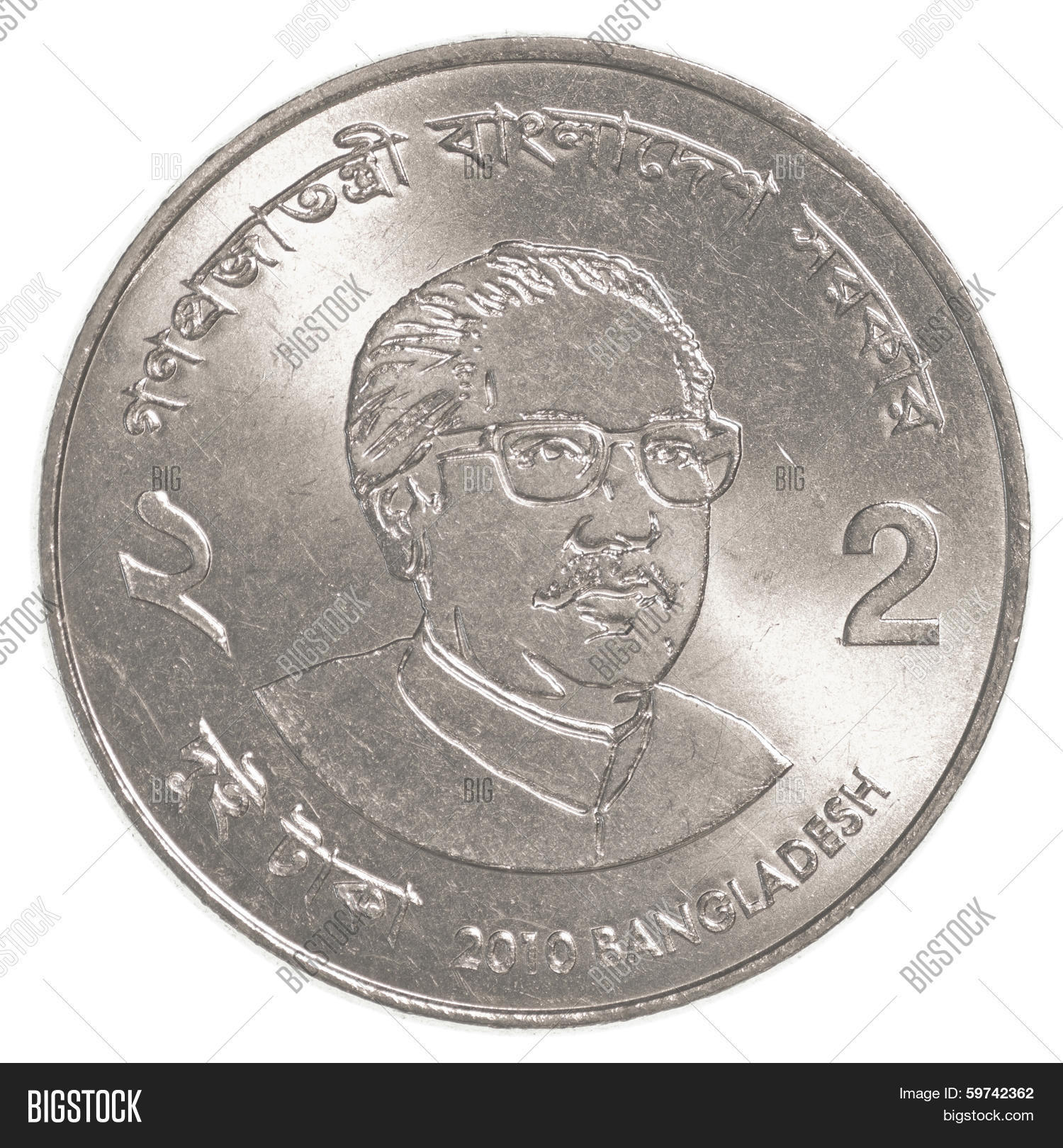5 taka coin: (43, 36, 1028, 1027)
